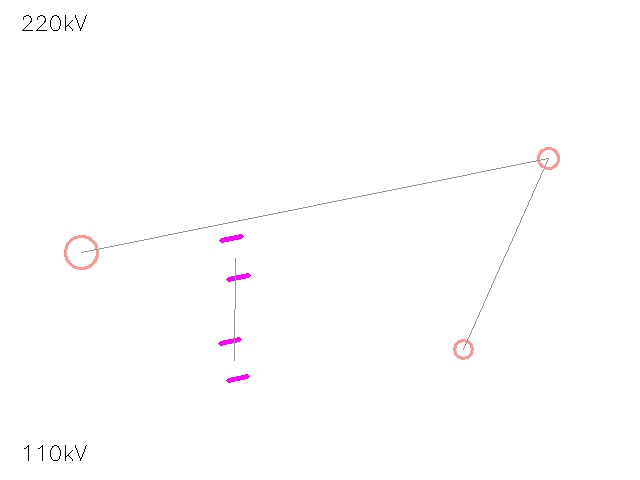capacitor: (202, 225, 268, 291), (203, 329, 265, 391)
feeder_terminal: (528, 138, 568, 178)
fuse: (49, 220, 113, 284)
load_break_switch: (445, 331, 481, 367)
